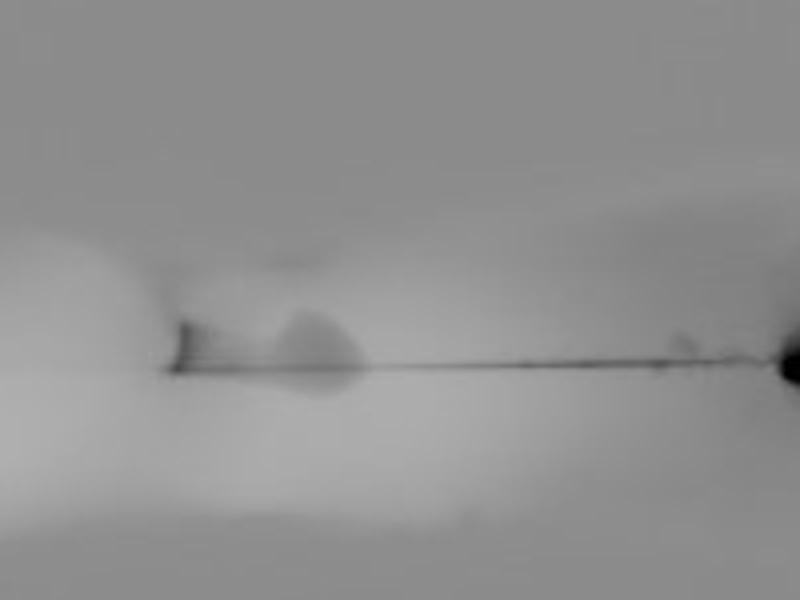defect: (274, 312, 368, 397), (781, 328, 800, 384), (668, 326, 700, 354)
